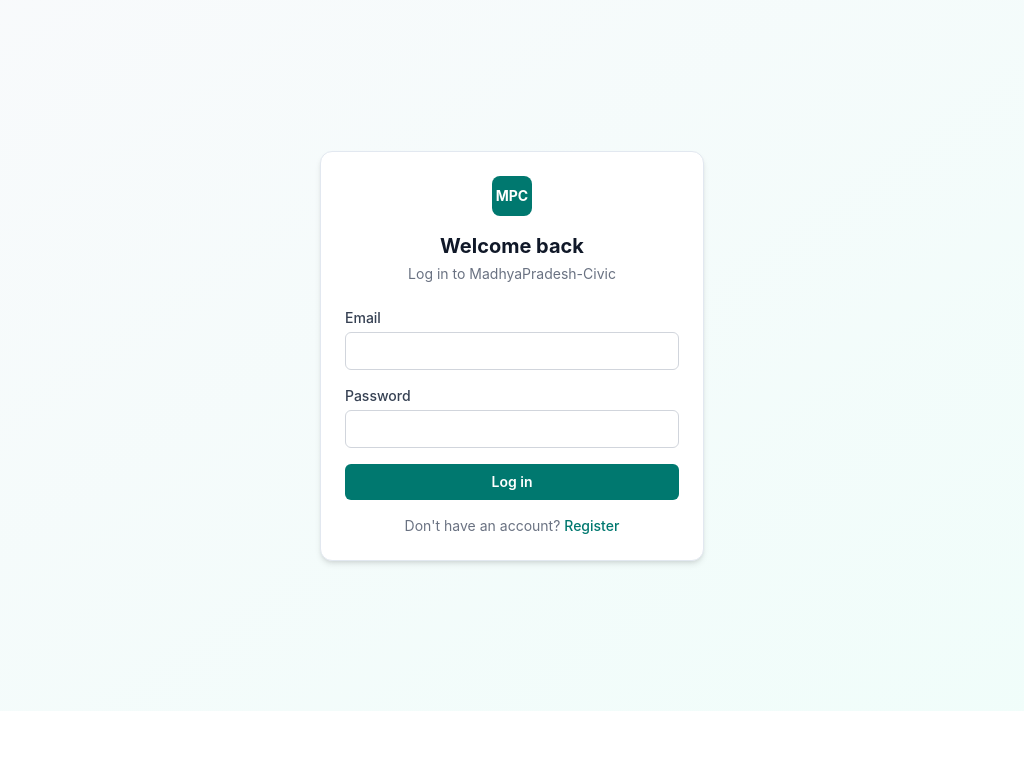
Scenario: Login page (critical flow: login) › shows the server's error message on a failed login
Type "asha@test.com" into the field named "email" at (512, 350), box [345, 332, 679, 370]
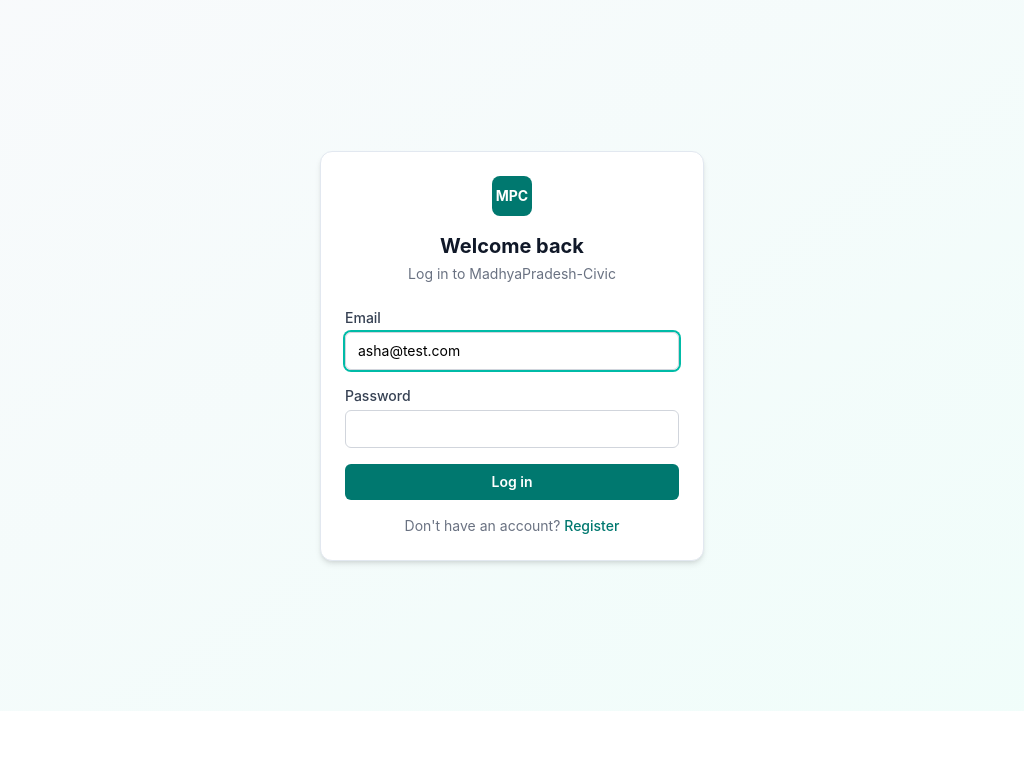
Type "wrongpass" into the password field named "password" at (512, 428), box [345, 410, 679, 448]
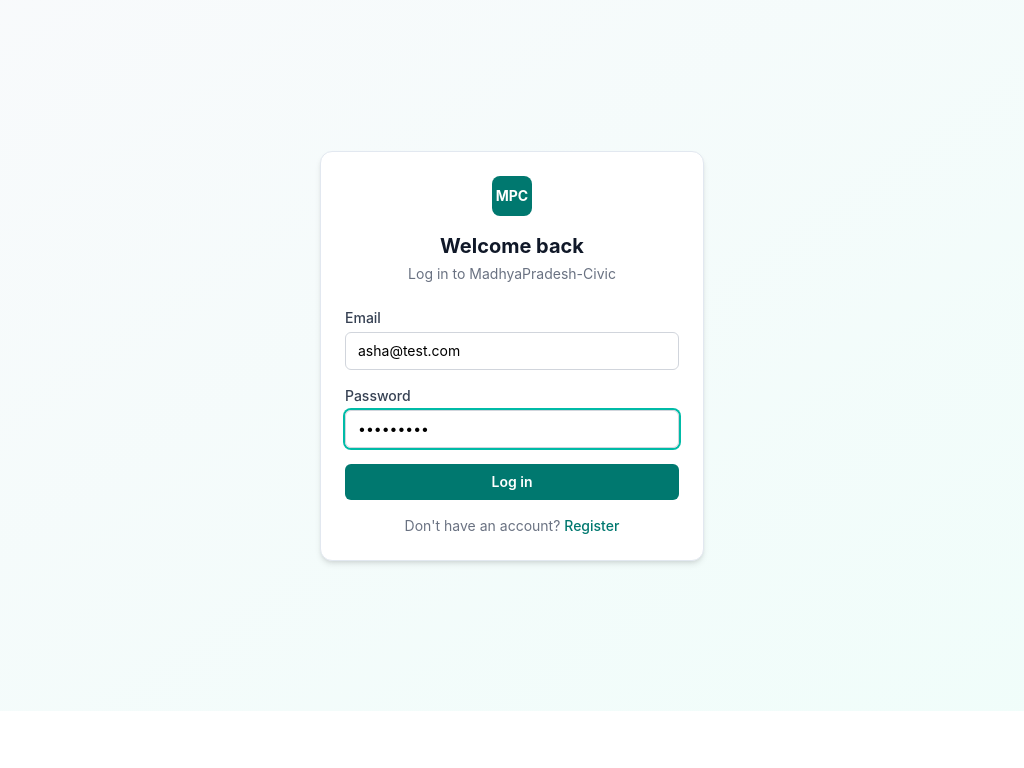
Click the button "Log in" at (512, 482), box [345, 464, 679, 500]
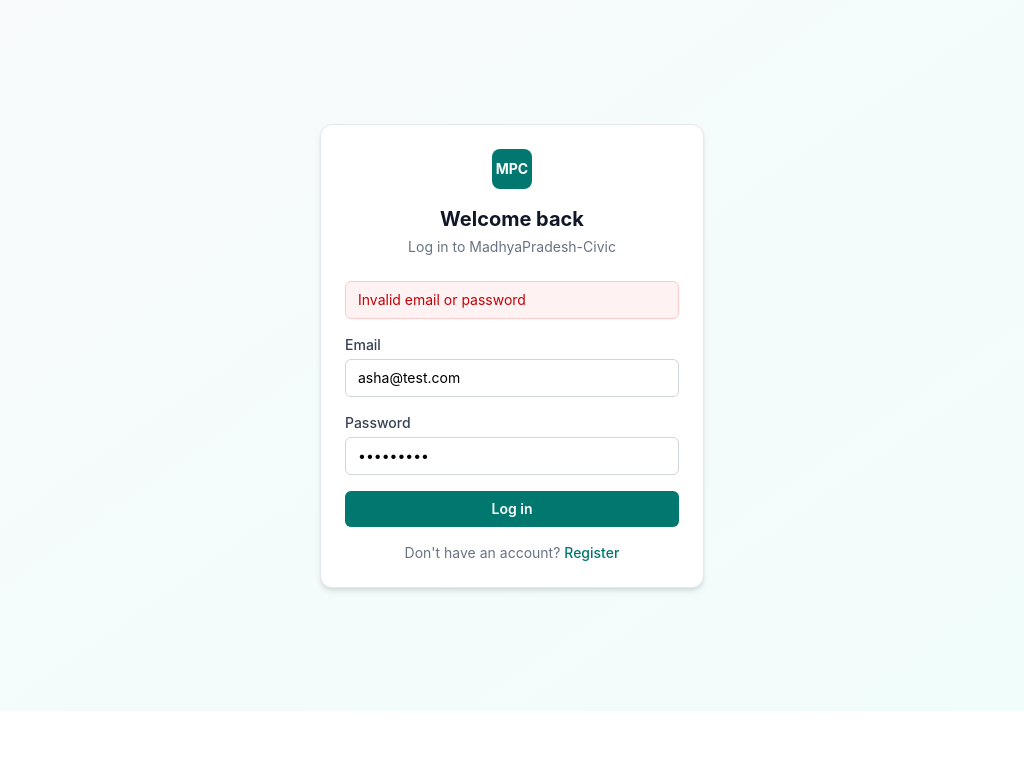
Now the text "Invalid email or password" is shown, box [345, 280, 679, 318]
